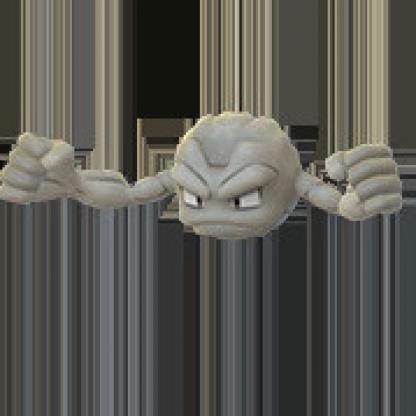Geodude: (1, 5, 416, 416)
